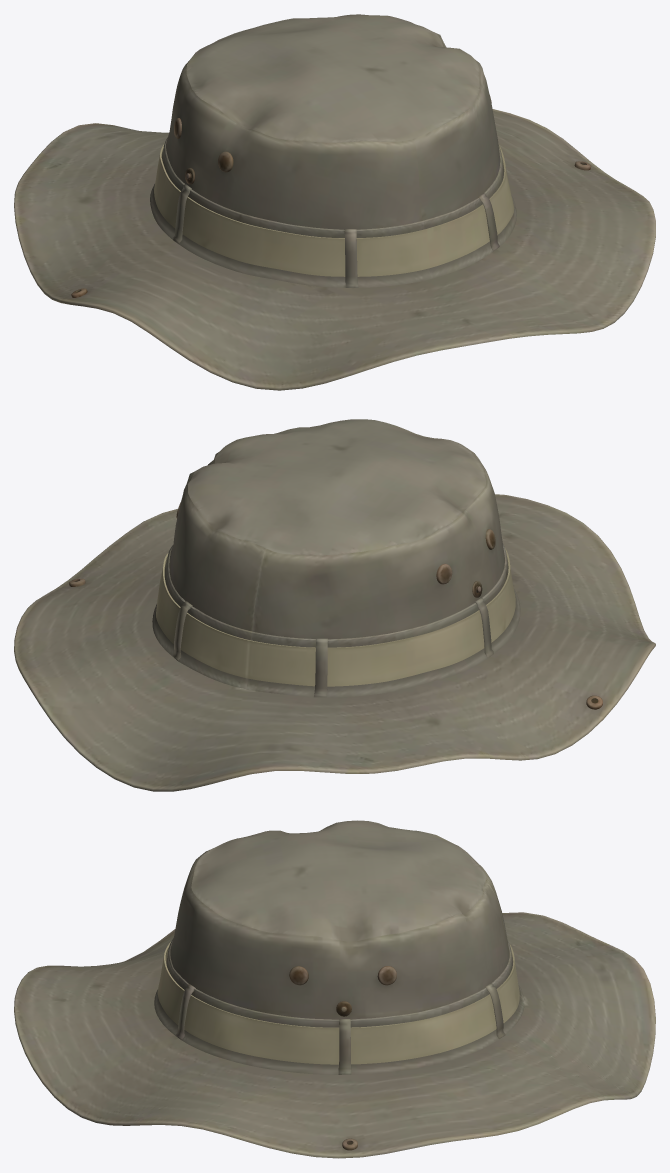
Rendered from fishermans_hat.glb.
The picture shows the model from 3 angles, top to bottom: view 1: azimuth 30°, elevation 25°; view 2: azimuth 150°, elevation 25°; view 3: azimuth 270°, elevation 25°; orthographic projection. The views are drawn at different scales.
Parts seen in each view (by area): view 1: fishermans_hat; view 2: fishermans_hat; view 3: fishermans_hat.
Boxes of the visible parts, left/top/right/bottom form: fishermans_hat: left=14, top=14, right=655, bottom=390; fishermans_hat: left=14, top=419, right=655, bottom=791; fishermans_hat: left=14, top=820, right=655, bottom=1158.
Bounding box in the file's own units: 0.3236 × 0.124 × 0.35.
1 material, 1 textured.
